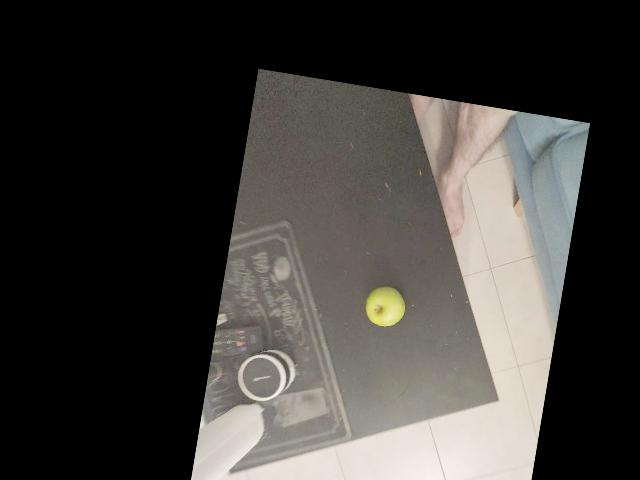apple: (360, 283, 413, 335)
